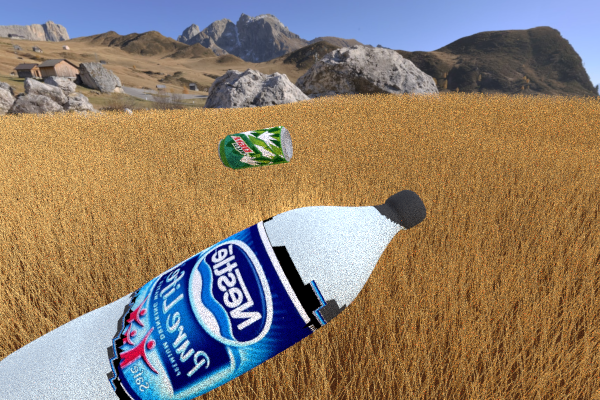Plastic Bottle: (0, 189, 426, 400), (218, 125, 292, 169), (381, 115, 411, 146)
